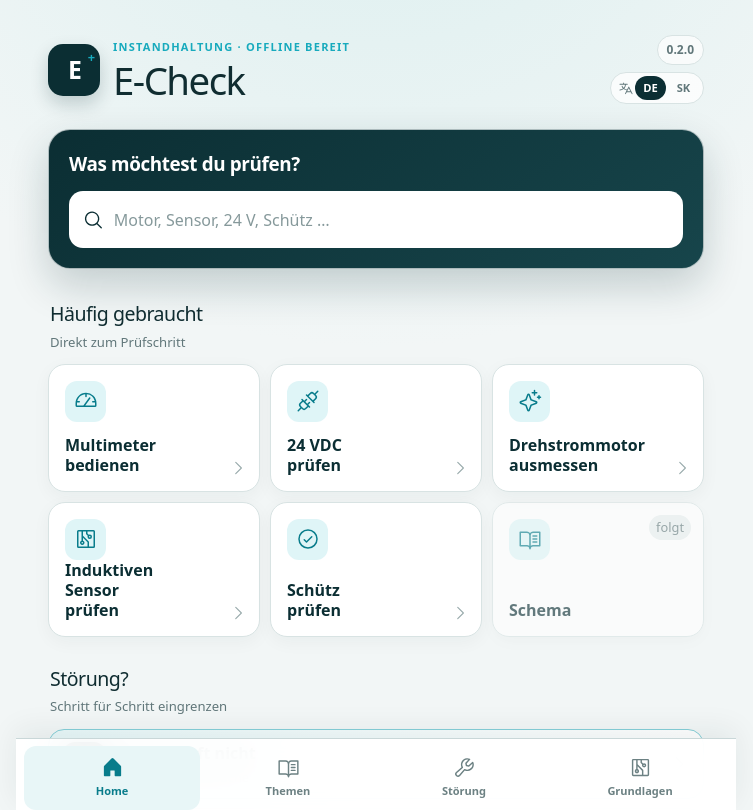
it: App › wechselt die gesamte Startseite auf Slowakisch
This screenshot has width=753, height=810.
What coordinates should you click on to do the following:
click the button "SK"
I would click on:
 (684, 88)
Its box is [668,76,699,100].
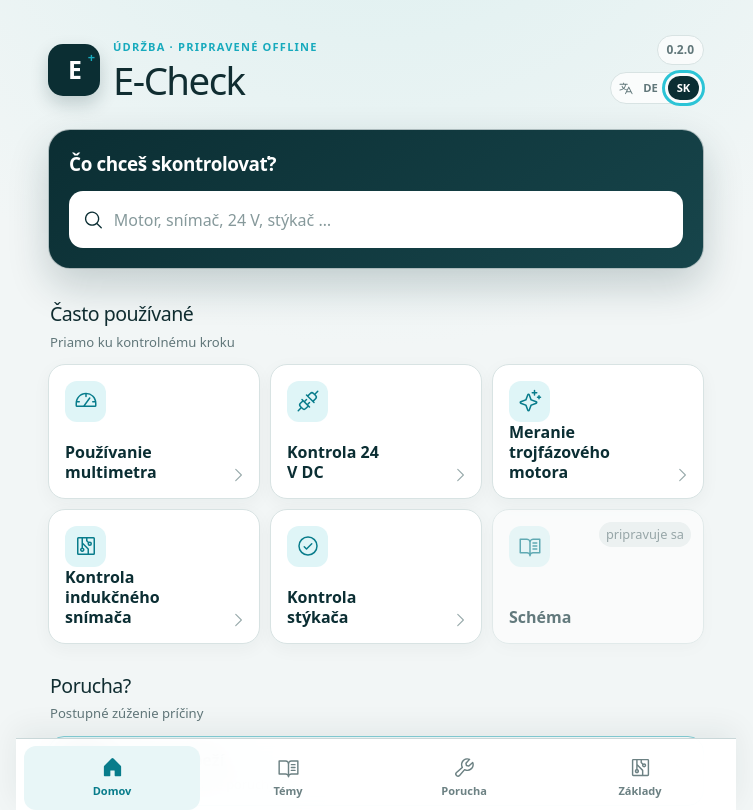
Check: the text "Motor nebeží" is shown, box [119,748,224,770]
Check: the text "Čo chceš skontrolovať?" is shown, box [69,151,276,177]
